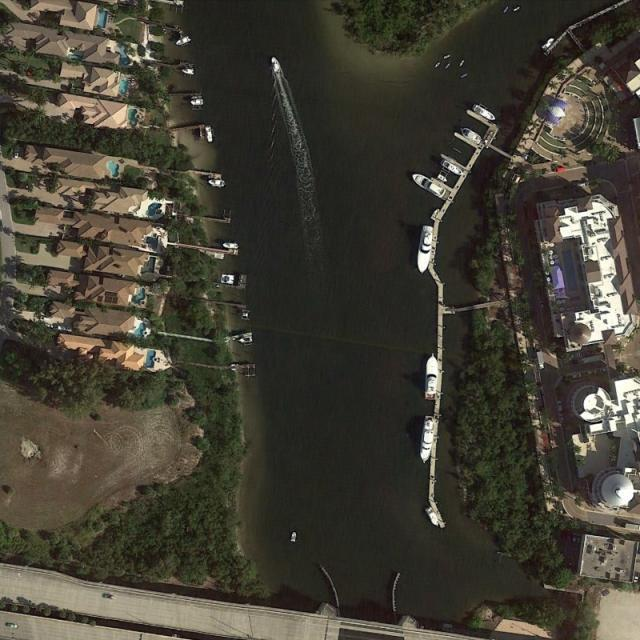vehicle: (537, 351, 544, 368), (6, 622, 18, 629), (102, 594, 114, 600), (573, 359, 582, 364), (555, 167, 565, 171), (570, 353, 580, 357), (558, 402, 562, 411), (540, 301, 544, 309), (573, 374, 581, 378), (578, 183, 585, 186), (15, 153, 18, 158)
